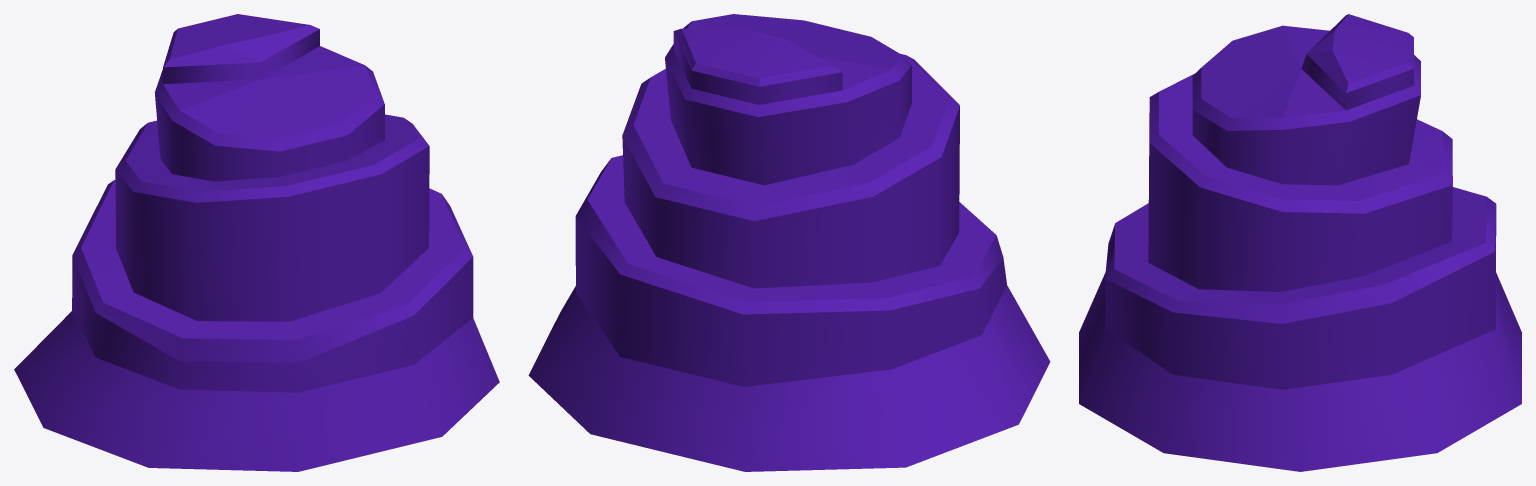
File: Rock_01.obj
3 renders of one model, left to right at view 1: azimuth 30°, elevation 25°; view 2: azimuth 150°, elevation 25°; view 3: azimuth 270°, elevation 25°, orthographic. The views are drawn at different scales.
Visible parts, largest first — view 1: Cylinder001; view 2: Cylinder001; view 3: Cylinder001.
Part boxes in pixels (<box>): Cylinder001: <box>14,14,499,471</box>; Cylinder001: <box>528,14,1050,471</box>; Cylinder001: <box>1079,14,1521,471</box>.
Size of the model in its own units: 135 by 97.25 by 119.
